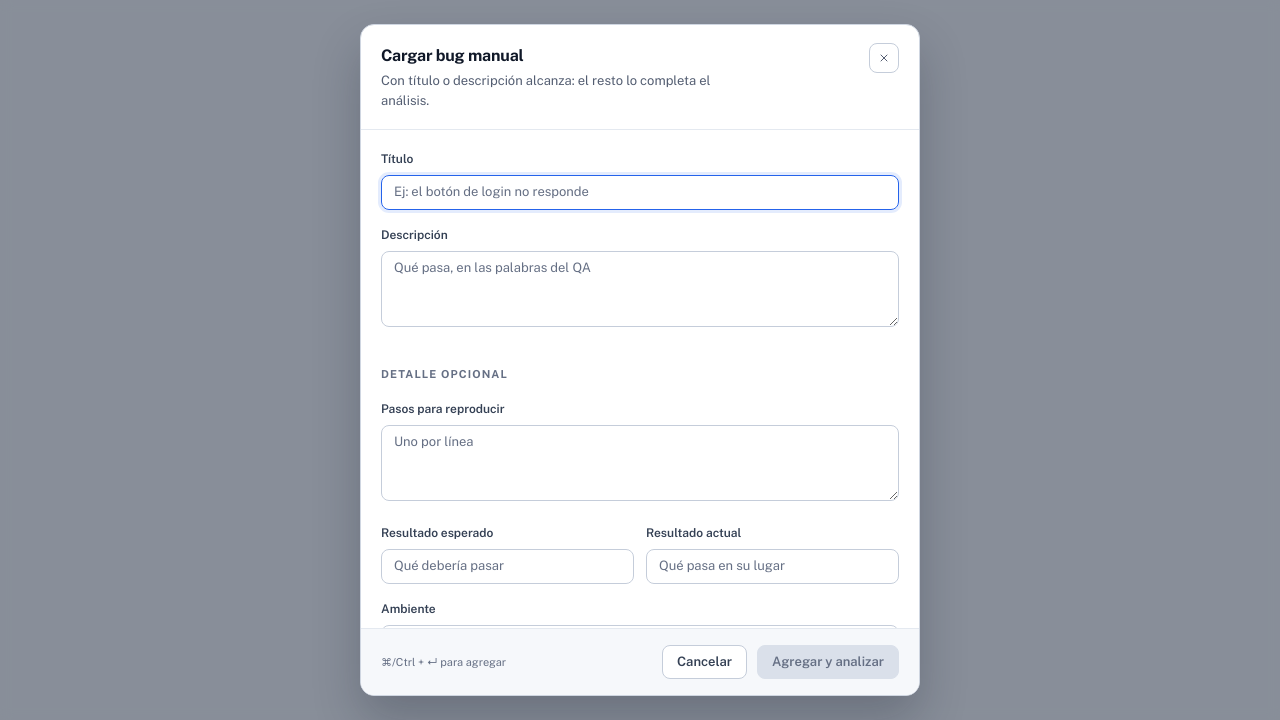
Test case: ManualBugForm › el submit arranca deshabilitado y se habilita al cargar título
Expected: the button "Agregar y analizar" is disabled, [757,645,899,679]
Type "Login roto" into the field labelled "Título" at point(640, 192), box [381,175,899,210]
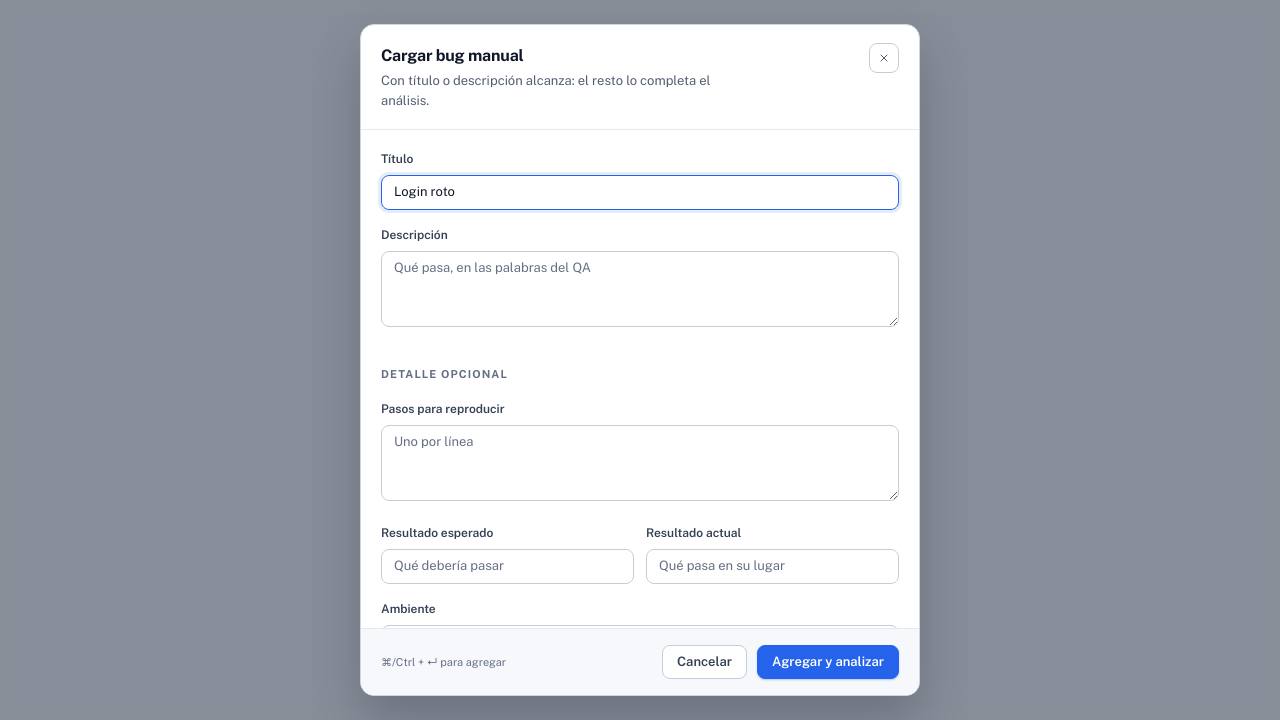
Result: the button "Agregar y analizar" is enabled at [757,645,899,679]
